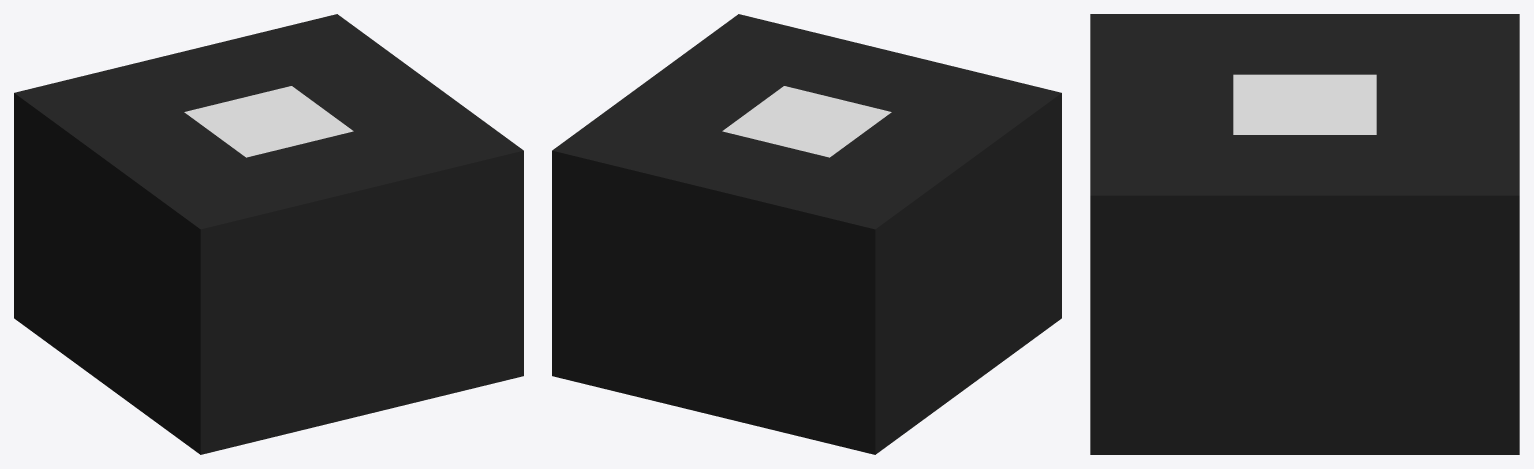
Rendered from button.obj.
3 renders of one model, left to right at view 1: azimuth 30°, elevation 25°; view 2: azimuth 150°, elevation 25°; view 3: azimuth 270°, elevation 25°, orthographic. The views are drawn at different scales.
Parts seen in each view (by area): view 1: button; view 2: button; view 3: button.
Part boxes in pixels (bbox=[...]): button: bbox=[14, 14, 523, 454]; button: bbox=[552, 14, 1061, 454]; button: bbox=[1090, 14, 1519, 454].
Size of the model in its own units: 3 by 2 by 3.
1 material, 1 textured.
